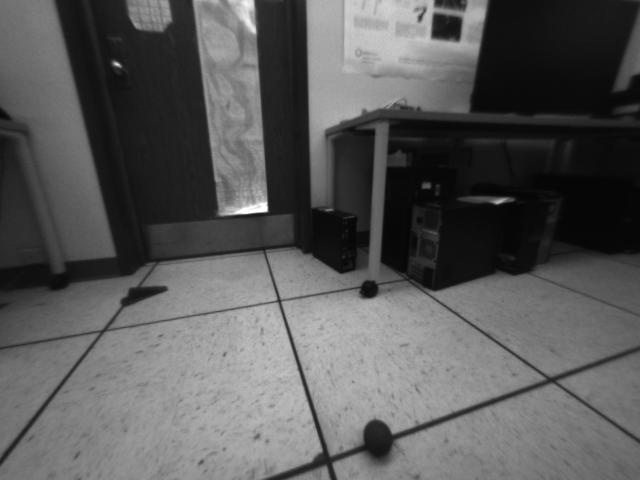dogtoy: (351, 413, 408, 464)
